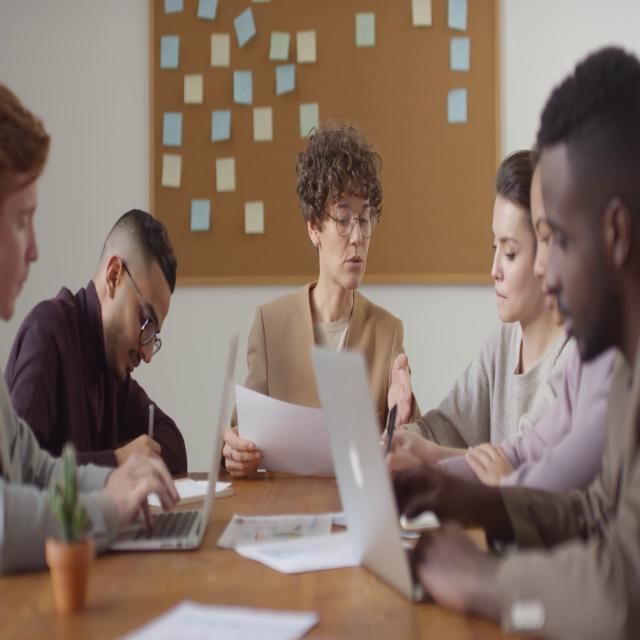not-gloved: (104, 448, 180, 532), (222, 424, 263, 479), (466, 442, 518, 483), (386, 354, 412, 422)
